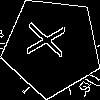X: (26, 21, 74, 60)
